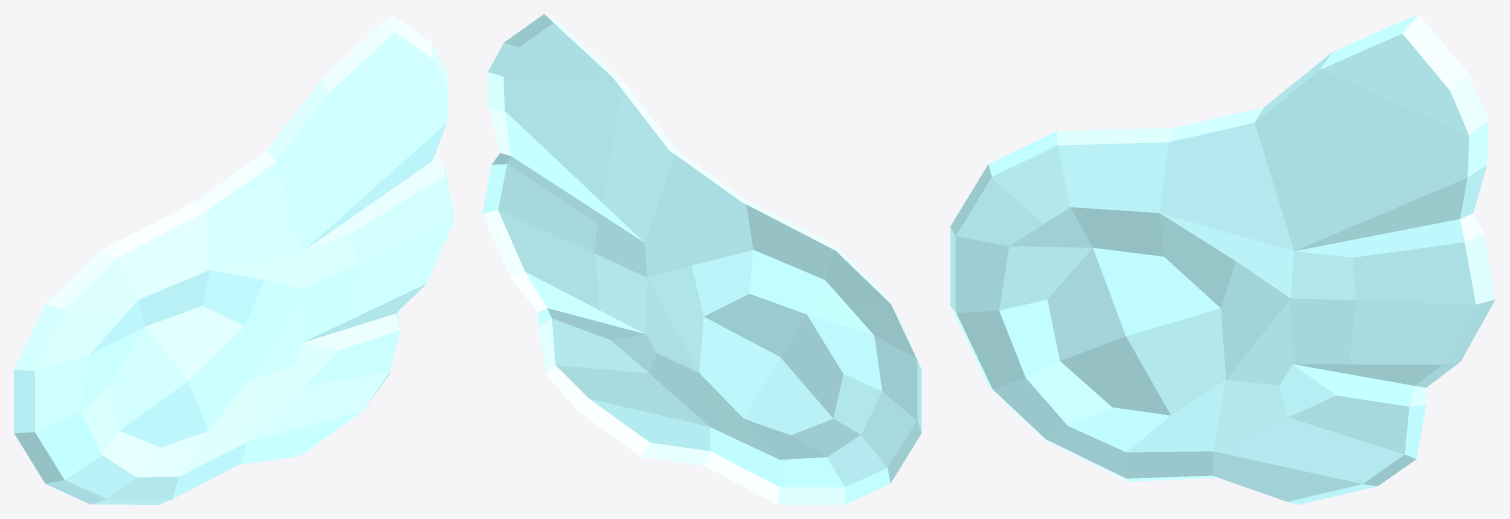
The model's file is Wing.fbx.
3 renders of one model, left to right at view 1: azimuth 30°, elevation 25°; view 2: azimuth 150°, elevation 25°; view 3: azimuth 330°, elevation 25°, orthographic. The views are drawn at different scales.
Visible parts, largest first — view 1: Wing; view 2: Wing; view 3: Wing.
Part boxes in pixels (x1,y1,x2,y2): Wing: [14, 14, 453, 504]; Wing: [482, 14, 921, 504]; Wing: [950, 14, 1495, 504].
Size of the model in its own units: 265 by 250 by 17.14.
